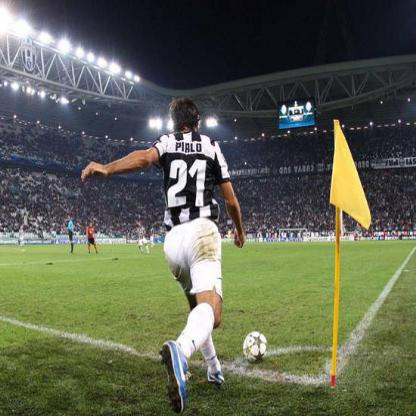corner kick: (142, 88, 396, 407)
